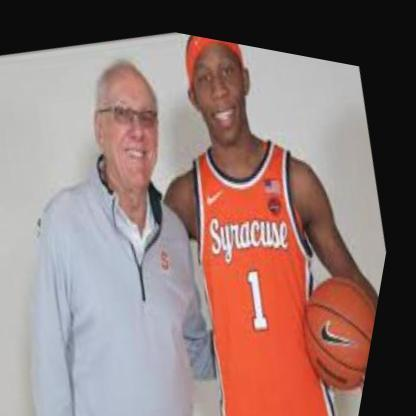basketball: (290, 246, 389, 385)
